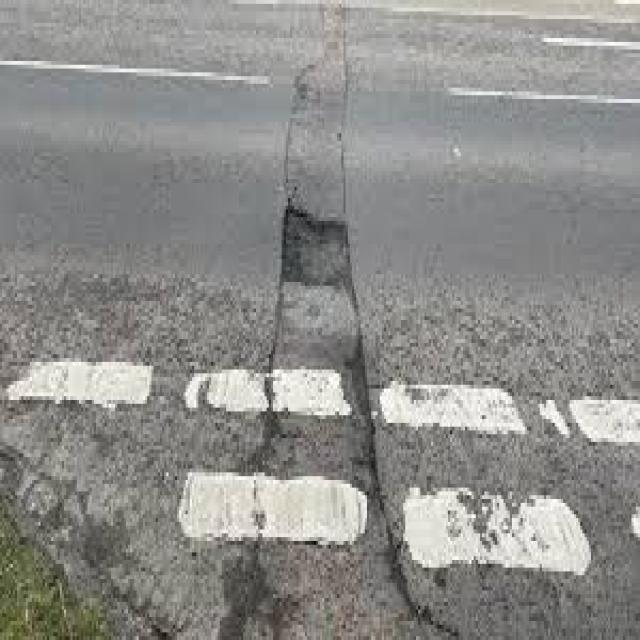Pothole: (282, 213, 352, 297)
